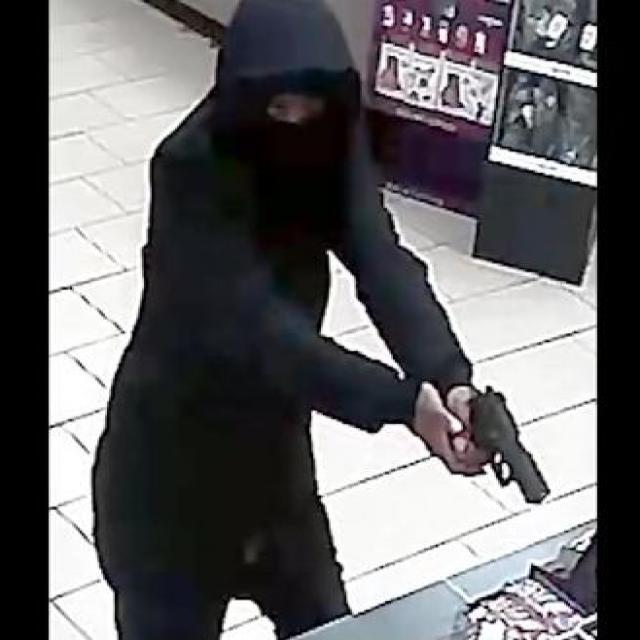Gun: (444, 386, 554, 502)
